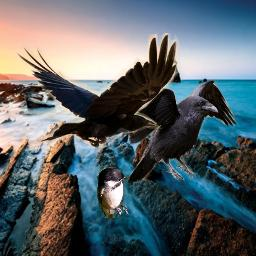Crow: (15, 33, 180, 148), (78, 79, 238, 183)
Swallow: (96, 166, 130, 218)
